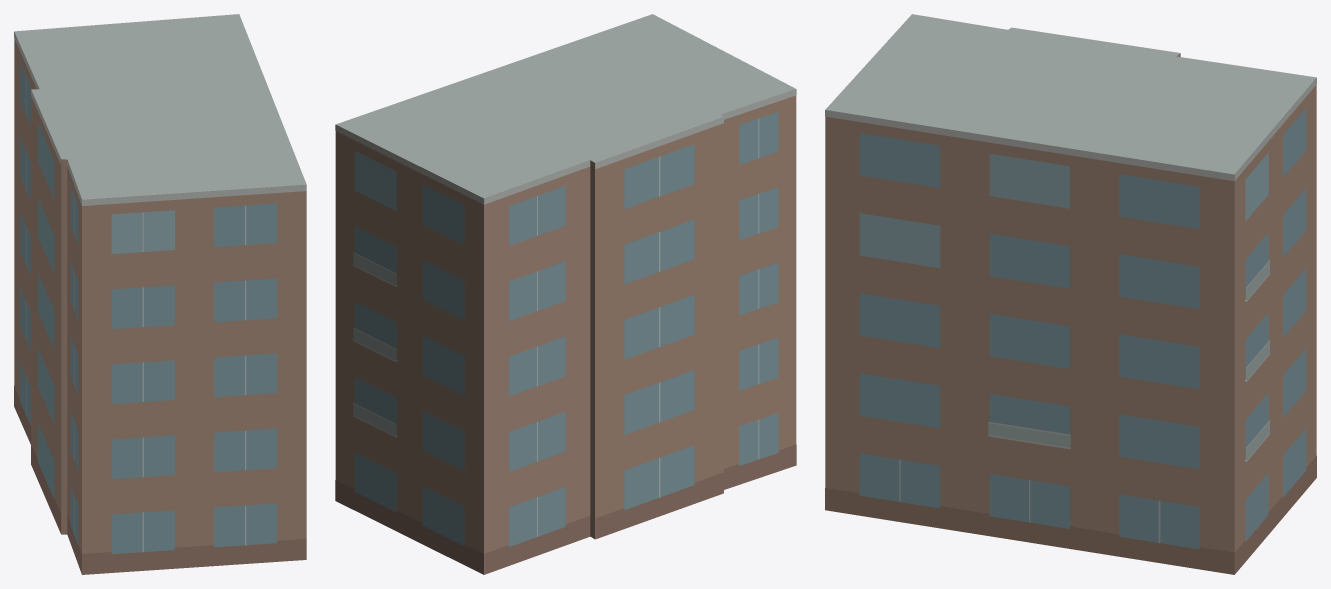
File: survey-upis-32893512.glb
The picture shows the model from 3 angles, left to right: view 1: azimuth 30°, elevation 25°; view 2: azimuth 150°, elevation 25°; view 3: azimuth 270°, elevation 25°; orthographic projection. The views are drawn at different scales.
Visible parts, largest first — view 1: survey-upis-32893512.tmp; view 2: survey-upis-32893512.tmp; view 3: survey-upis-32893512.tmp.
Boxes of the visible parts, x1,y1,x2,y2 form: survey-upis-32893512.tmp: (14,14,306,574); survey-upis-32893512.tmp: (335,14,796,574); survey-upis-32893512.tmp: (825,14,1316,574).
Bounding box in the file's own units: 12.48 × 14.5 × 16.15.
